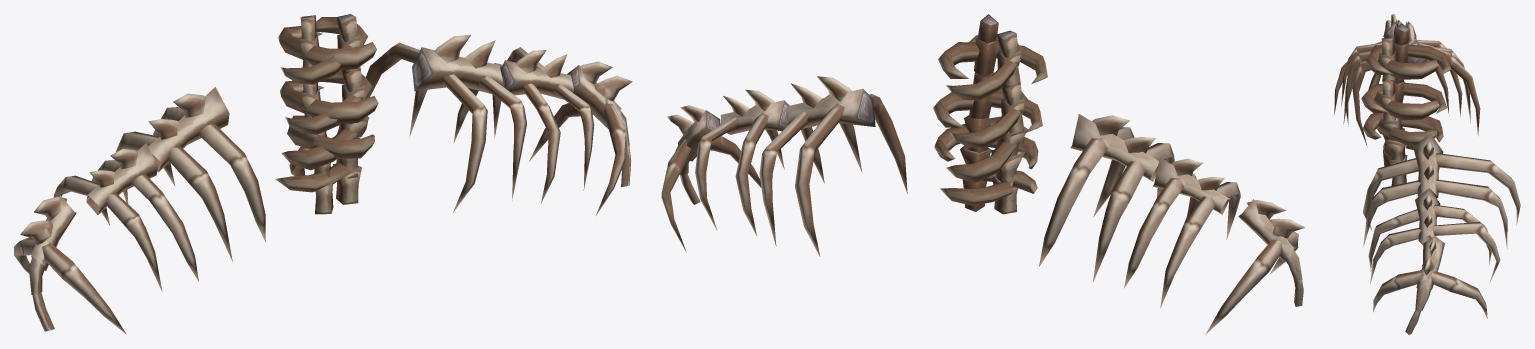
Rendered from bl_gutou.FBX.
The picture shows the model from 3 angles, left to right: view 1: azimuth 30°, elevation 25°; view 2: azimuth 150°, elevation 25°; view 3: azimuth 270°, elevation 25°; orthographic projection. The views are drawn at different scales.
Parts seen in each view (by area): view 1: bl_gutou03, bl_gutou01, bl_gutou02; view 2: bl_gutou03, bl_gutou02, bl_gutou01; view 3: bl_gutou03, bl_gutou01, bl_gutou02.
Part boxes in pixels (<box>): bl_gutou03: <box>14,35,632,334</box>; bl_gutou01: <box>275,14,372,204</box>; bl_gutou02: <box>278,15,378,214</box>; bl_gutou03: <box>661,76,1304,334</box>; bl_gutou02: <box>940,30,1028,214</box>; bl_gutou01: <box>933,14,1047,211</box>; bl_gutou03: <box>1334,14,1520,334</box>; bl_gutou01: <box>1369,37,1439,185</box>; bl_gutou02: <box>1361,23,1451,166</box>.
Bounding box in the file's own units: 6322 × 2427 × 2130.
